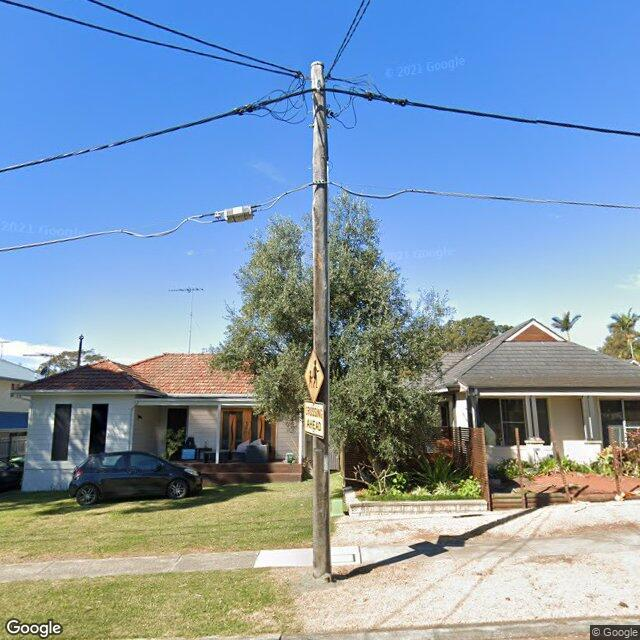timber-pole: (311, 61, 329, 578)
